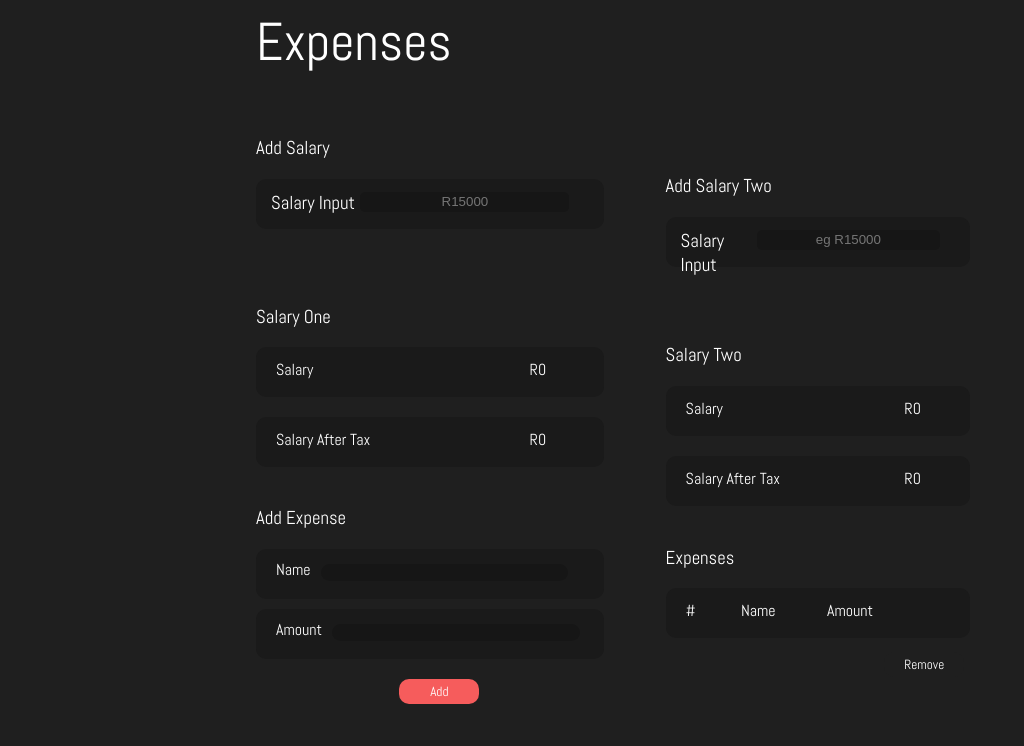
Test: Testing Page Three › Testing Combined Salary
Step 1. Type "15000" into the field named "salaryOne" → point(465, 202), box [360,192,569,212]
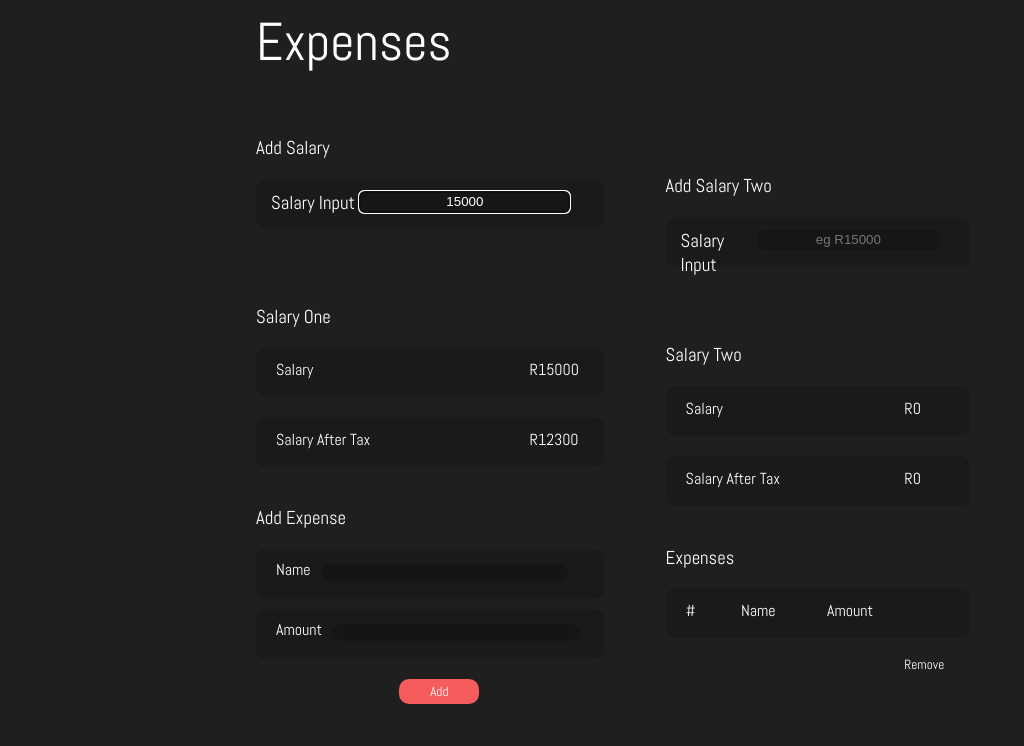
Step 2. Type "30000" into the field named "salaryTwo" → point(848, 240), box [757,230,940,250]
(page scrolled)
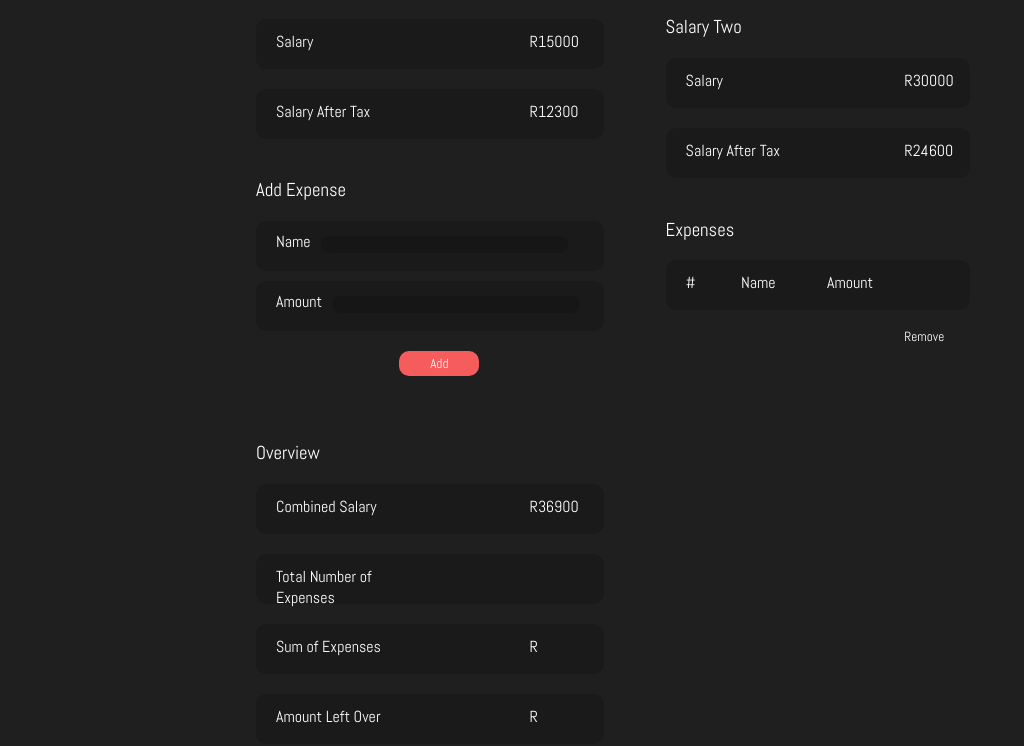
Expected: the text named "combinedSalary" reads "R36900", [530,496,579,517]
